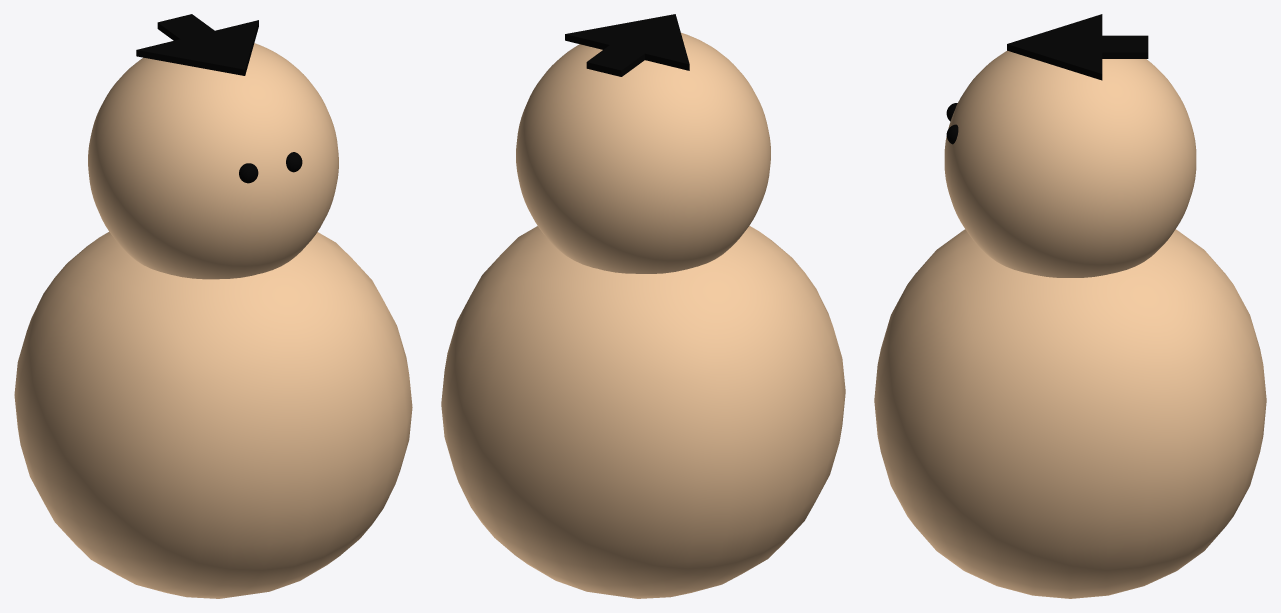
Rendered from newb.obj.
3 views of the same model, side by side, from view 1: azimuth 30°, elevation 25°; view 2: azimuth 150°, elevation 25°; view 3: azimuth 270°, elevation 25° (orthographic).
Parts seen in each view (by area): view 1: Cube.002_Cube.004, Cube.002_Cube.005_Cube.002_Cube.006; view 2: Cube.002_Cube.004, Cube.002_Cube.005_Cube.002_Cube.006; view 3: Cube.002_Cube.004, Cube.002_Cube.005_Cube.002_Cube.006.
Part boxes in pixels (left/top/right/bottom): Cube.002_Cube.004: left=14, top=43, right=412, bottom=598; Cube.002_Cube.005_Cube.002_Cube.006: left=136, top=14, right=302, bottom=183; Cube.002_Cube.004: left=441, top=32, right=845, bottom=598; Cube.002_Cube.005_Cube.002_Cube.006: left=565, top=14, right=689, bottom=76; Cube.002_Cube.004: left=874, top=50, right=1266, bottom=598; Cube.002_Cube.005_Cube.002_Cube.006: left=946, top=14, right=1148, bottom=144.
Bounding box in the file's own units: 0.3205 × 0.4814 × 0.3205.
